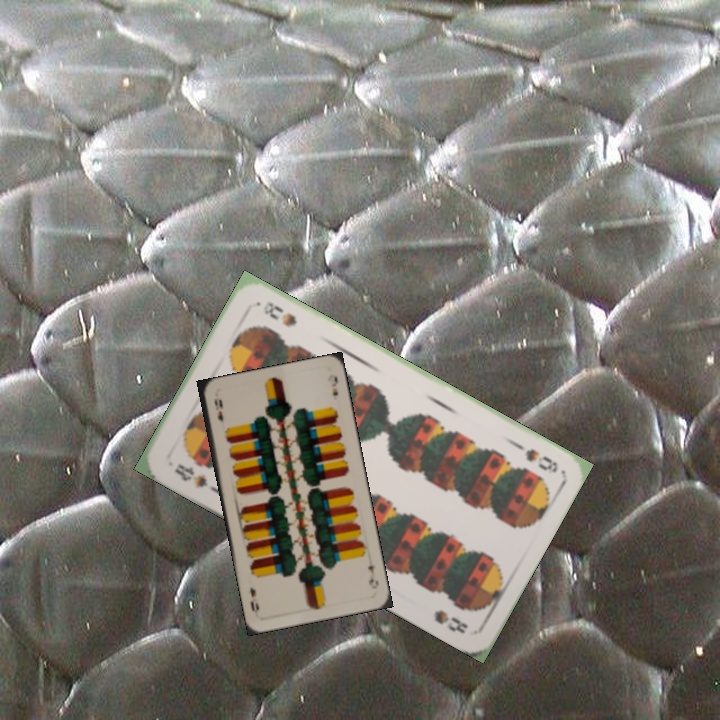E9: (364, 561, 381, 591), (210, 394, 226, 424)
S8: (508, 437, 561, 475), (170, 459, 211, 491)
